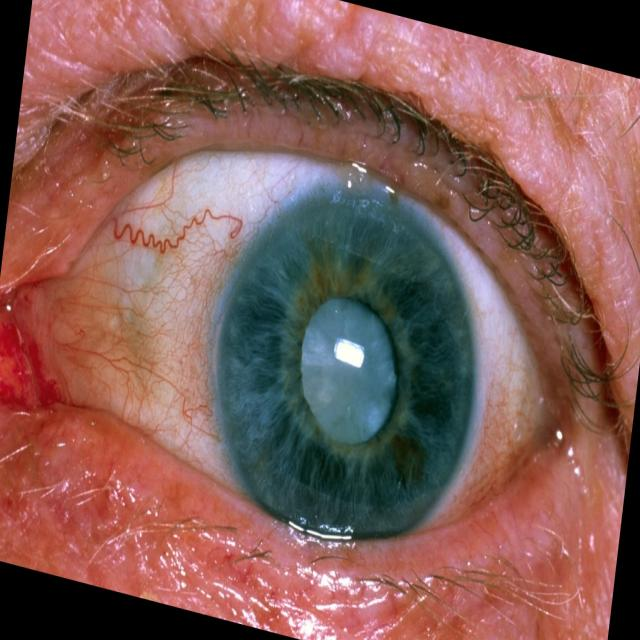Cataract: (149, 109, 522, 603)
